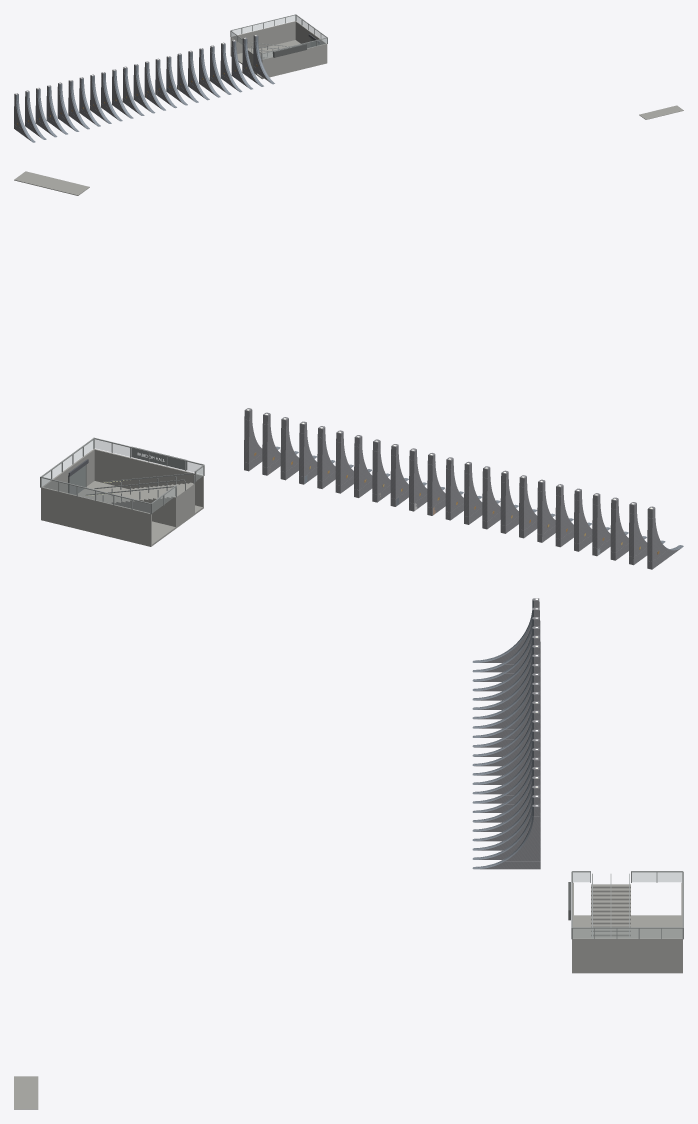
Rendered from gratitude-field.glb.
The picture shows the model from 3 angles, top to bottom: view 1: azimuth 30°, elevation 25°; view 2: azimuth 150°, elevation 25°; view 3: azimuth 270°, elevation 25°; orthographic projection. The views are drawn at different scales.
Parts seen in each view (by area): view 1: Freedom entrance side retaining walls, Freedom entrance perimeter glass guard, Freedom entrance floor, Watercourse pedestrian bridge at crossing, Freedom entrance guardrail caps, Freedom Hall entrance signage backing, Gratitude Light 14 / Greece / Granite fine salt and pepper, Gratitude Light 22 / Germany / Granite fine salt and pepper, Gratitude Light 05 / Canada / Granite fine salt and pepper, Gratitude Light 06 / France / Granite fine salt and pepper, Gratitude Light 23 / Republic of Korea / Granite fine salt a, Gratitude Light 13 / India / Granite fine salt and pepper (+6 smaller); view 2: Freedom entrance side retaining walls, Freedom entrance descending treads, Freedom entrance perimeter glass guard, Freedom entrance floor, Gratitude Light 01 / United States / Granite fine salt and p, Watercourse pedestrian bridge at crossing, Gratitude Light 04 / Netherlands / Granite fine salt and pep, Gratitude Light 10 / Turkiye / Granite fine salt and pepper, Gratitude Light 16 / Luxembourg / Granite fine salt and pepp, Gratitude Light 19 / Colombia / Granite fine salt and pepper, Gratitude Light 22 / Germany / Granite fine salt and pepper, Gratitude Light 23 / Republic of Korea / Granite fine salt a (+16 smaller); view 3: Freedom entrance side retaining walls, Freedom entrance descending treads, Freedom entrance floor, Gratitude Light 23 / Republic of Korea / Granite fine salt a, Freedom entrance perimeter glass guard, Watercourse pedestrian bridge at crossing.
Part boxes in pixels (<box>): Freedom entrance side retaining walls: <box>230,21,327,78</box>; Freedom entrance perimeter glass guard: <box>231,15,326,58</box>; Freedom entrance floor: <box>230,40,327,79</box>; Watercourse pedestrian bridge at crossing: <box>639,105,683,119</box>; Freedom entrance guardrail caps: <box>231,14,327,53</box>; Freedom Hall entrance signage backing: <box>273,44,306,57</box>; Gratitude Light 14 / Greece / Granite fine salt and pepper: <box>155,58,171,105</box>; Gratitude Light 22 / Germany / Granite fine salt and pepper: <box>242,37,259,85</box>; Gratitude Light 05 / Canada / Granite fine salt and pepper: <box>57,82,74,130</box>; Gratitude Light 06 / France / Granite fine salt and pepper: <box>68,80,85,127</box>; Gratitude Light 23 / Republic of Korea / Granite fine salt a: <box>253,34,270,82</box>; Gratitude Light 13 / India / Granite fine salt and pepper: <box>144,61,161,109</box>; Freedom entrance side retaining walls: <box>41,449,203,545</box>; Freedom entrance descending treads: <box>93,482,194,526</box>; Freedom entrance perimeter glass guard: <box>41,439,202,513</box>; Freedom entrance floor: <box>41,481,203,546</box>; Gratitude Light 01 / United States / Granite fine salt and p: <box>647,506,681,569</box>; Watercourse pedestrian bridge at crossing: <box>14,171,89,195</box>; Gratitude Light 04 / Netherlands / Granite fine salt and pep: <box>592,493,626,556</box>; Gratitude Light 10 / Turkiye / Granite fine salt and pepper: <box>482,466,500,529</box>; Gratitude Light 16 / Luxembourg / Granite fine salt and pepp: <box>372,439,406,502</box>; Gratitude Light 19 / Colombia / Granite fine salt and pepper: <box>317,426,351,488</box>; Gratitude Light 22 / Germany / Granite fine salt and pepper: <box>262,412,296,475</box>; Gratitude Light 23 / Republic of Korea / Granite fine salt a: <box>244,408,262,471</box>; Freedom entrance side retaining walls: <box>572,882,682,971</box>; Freedom entrance descending treads: <box>591,884,630,938</box>; Freedom entrance floor: <box>572,915,682,973</box>; Gratitude Light 23 / Republic of Korea / Granite fine salt a: <box>480,804,540,869</box>; Freedom entrance perimeter glass guard: <box>573,929,682,938</box>; Watercourse pedestrian bridge at crossing: <box>14,1076,38,1109</box>.
Size of the model in its own units: 95.78 by 9.68 by 60.38.
19 materials, 1 textured.
